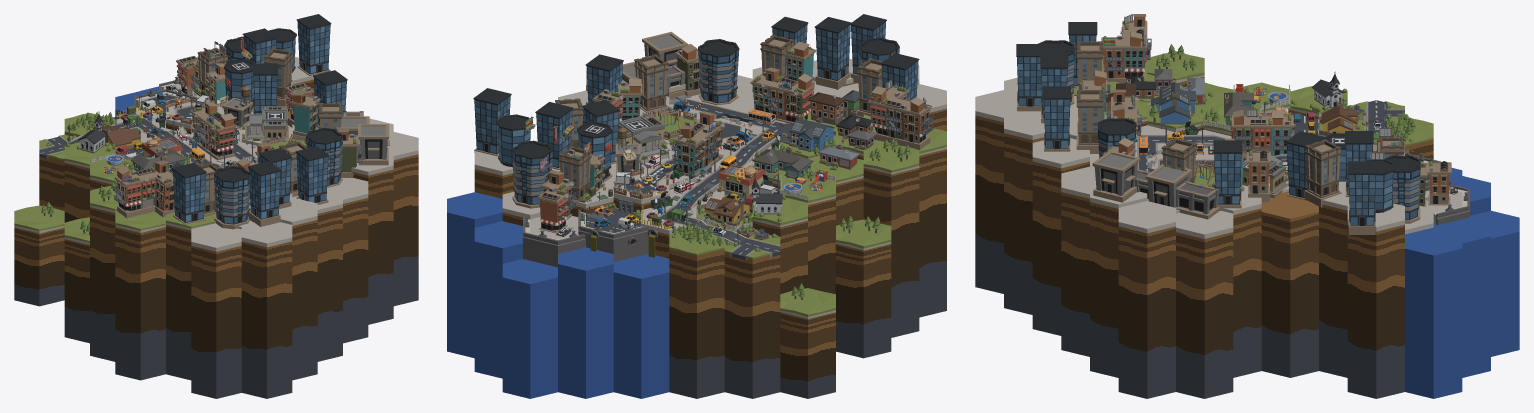
3 views of the same model, side by side, from view 1: azimuth 30°, elevation 25°; view 2: azimuth 150°, elevation 25°; view 3: azimuth 270°, elevation 25° (orthographic). The views are drawn at different scales.
Visible parts, largest first — view 1: SketchfabCity_PolygonMiniCity_01_0 (×3), SketchfabCity_Water_0; view 2: SketchfabCity_PolygonMiniCity_01_0 (×3), SketchfabCity_Water_0; view 3: SketchfabCity_PolygonMiniCity_01_0 (×3), SketchfabCity_Water_0.
Boxes of the visible parts, <box> form: SketchfabCity_PolygonMiniCity_01_0 (×3): <box>14,14,418,398</box>; SketchfabCity_Water_0: <box>113,86,158,118</box>; SketchfabCity_PolygonMiniCity_01_0 (×3): <box>473,14,946,398</box>; SketchfabCity_Water_0: <box>447,192,669,398</box>; SketchfabCity_PolygonMiniCity_01_0 (×3): <box>975,14,1469,398</box>; SketchfabCity_Water_0: <box>1405,168,1519,398</box>.
Size of the model in its own units: 36.22 by 22.65 by 47.5.
5 materials, 5 textured.
